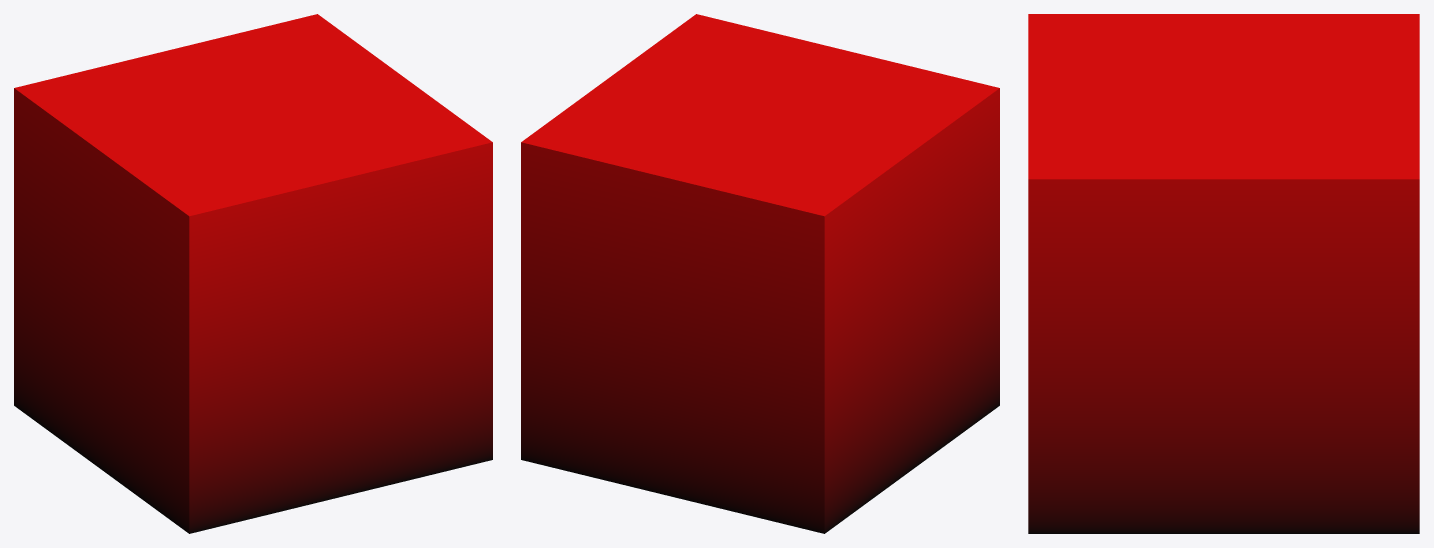
File: CubeDetailLevel2.FBX
The picture shows the model from 3 angles, left to right: view 1: azimuth 30°, elevation 25°; view 2: azimuth 150°, elevation 25°; view 3: azimuth 270°, elevation 25°; orthographic projection. The views are drawn at different scales.
Visible parts, largest first — view 1: Box001; view 2: Box001; view 3: Box001.
Part boxes in pixels (x1,y1,x2,y2): Box001: (14, 14, 492, 533); Box001: (521, 14, 999, 533); Box001: (1028, 14, 1419, 533).
Size of the model in its own units: 100 by 100 by 100.
